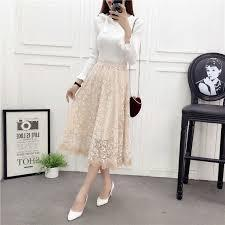skirt: (53, 59, 138, 169)
sweater: (76, 10, 148, 81)
